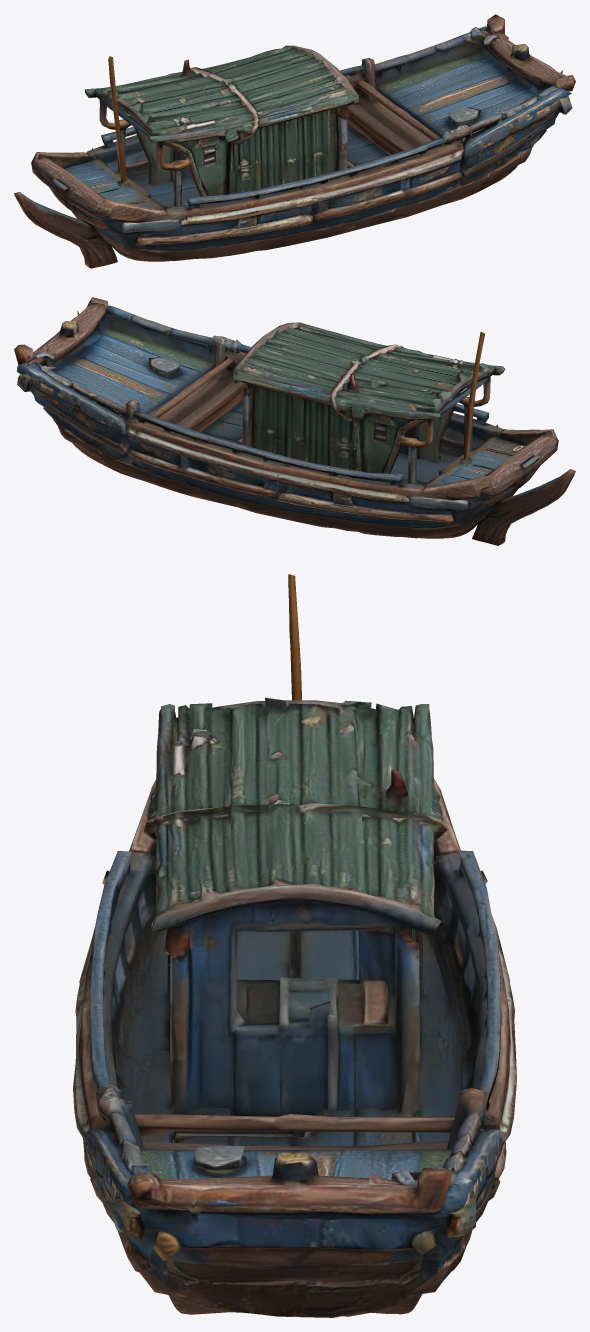
File: fishing_boat.glb
3 views of the same model, one above another, from view 1: azimuth 30°, elevation 25°; view 2: azimuth 150°, elevation 25°; view 3: azimuth 270°, elevation 25° (orthographic). The views are drawn at different scales.
Visible parts, largest first — view 1: tripo_node_8040f7ea-5826-4d29-980c-1b9dea80de57; view 2: tripo_node_8040f7ea-5826-4d29-980c-1b9dea80de57; view 3: tripo_node_8040f7ea-5826-4d29-980c-1b9dea80de57.
Boxes of the visible parts, x1=… form: tripo_node_8040f7ea-5826-4d29-980c-1b9dea80de57: x1=14, y1=14, x2=575, y2=268; tripo_node_8040f7ea-5826-4d29-980c-1b9dea80de57: x1=14, y1=297, x2=575, y2=545; tripo_node_8040f7ea-5826-4d29-980c-1b9dea80de57: x1=73, y1=574, x2=516, y2=1317.
Bounding box in the file's own units: 0.984 × 0.3767 × 0.3611.
1 material, 1 textured.
